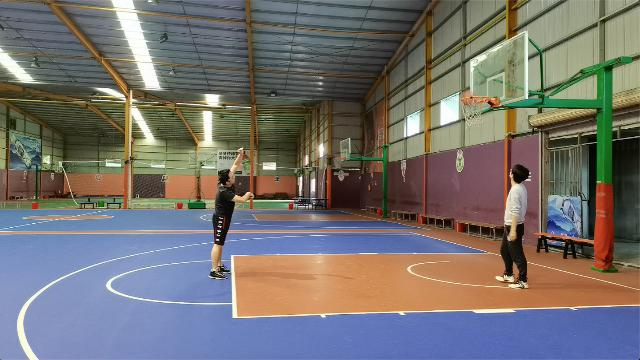basket: (459, 95, 489, 126)
goal: (460, 89, 478, 106)
